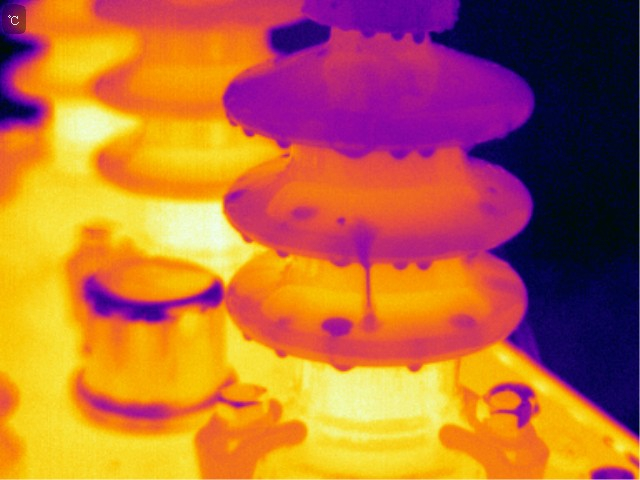Water: (359, 270, 381, 335), (356, 228, 375, 272), (317, 314, 351, 337), (333, 143, 374, 162), (217, 183, 247, 206), (390, 259, 434, 272), (416, 142, 440, 165), (290, 204, 320, 222), (330, 358, 358, 375), (452, 314, 478, 332), (236, 327, 255, 349), (237, 227, 255, 249), (328, 254, 354, 269), (409, 28, 429, 46), (389, 145, 409, 162), (274, 135, 295, 151), (359, 26, 376, 41), (241, 123, 258, 138), (273, 247, 291, 261), (406, 360, 423, 374), (274, 347, 289, 360), (392, 30, 403, 45), (335, 214, 346, 225)
